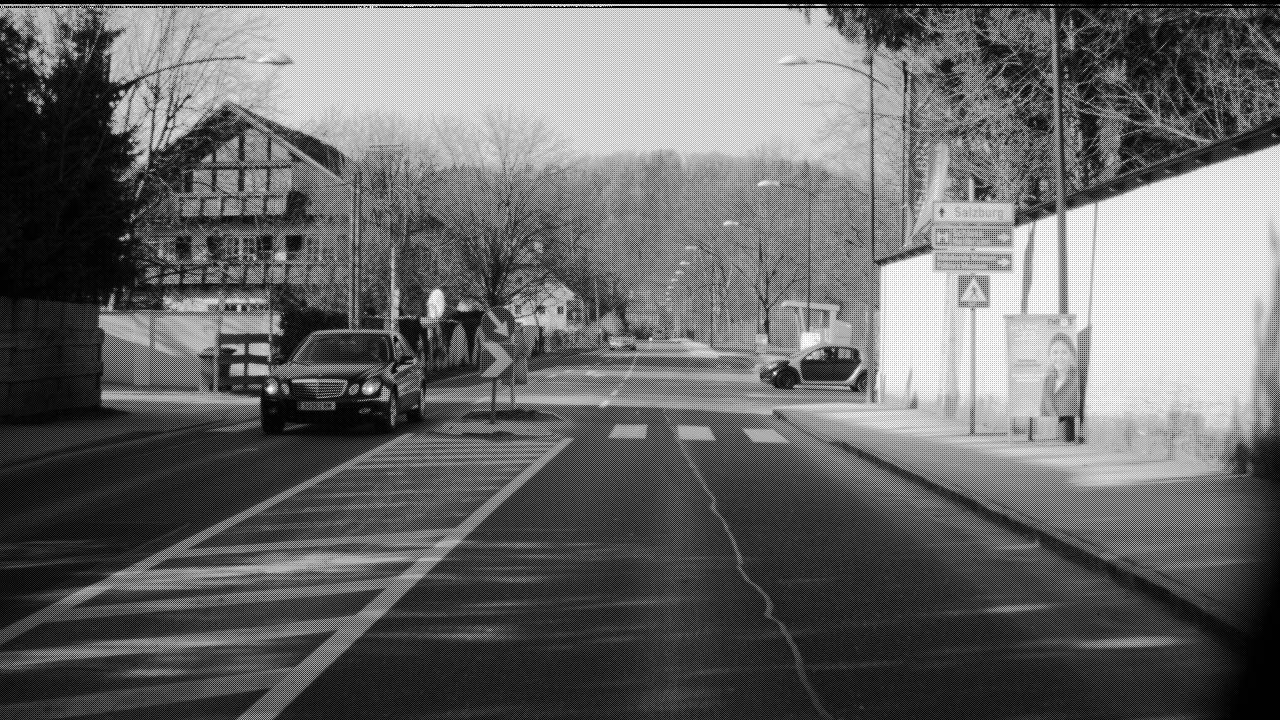pole: (1050, 1, 1074, 433), (866, 70, 876, 393), (349, 172, 363, 328), (805, 187, 810, 323)
